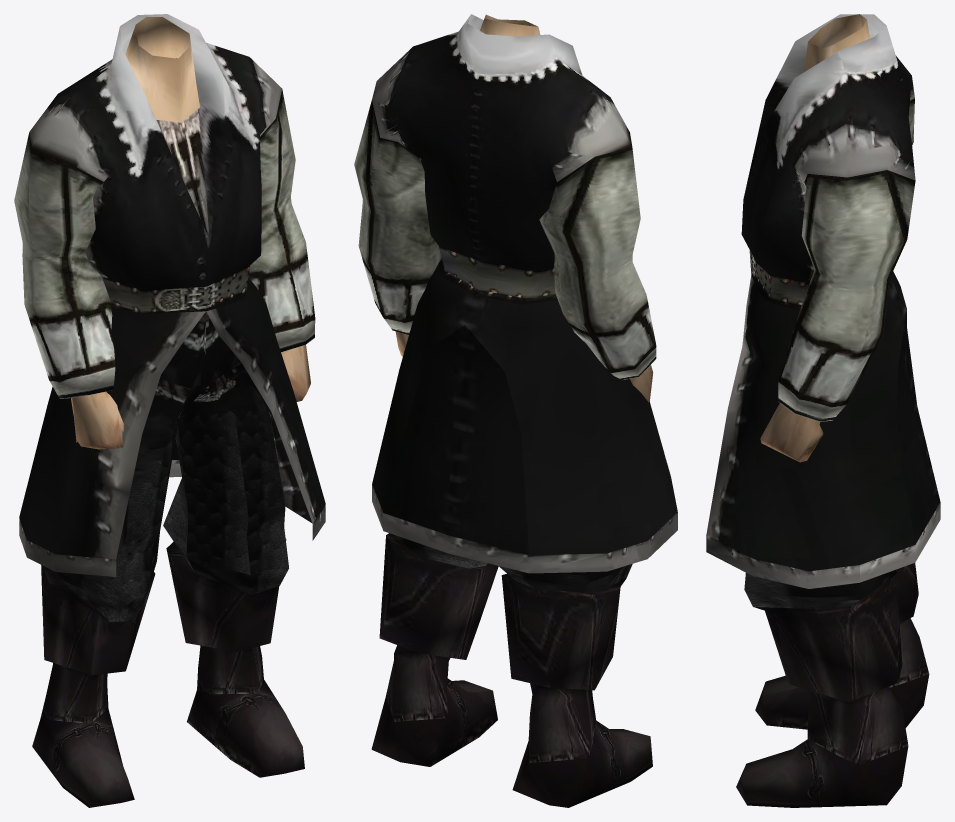
The model's file is OBYW_CZARNBIAL_DLUGAA1.glb.
3 renders of one model, left to right at view 1: azimuth 30°, elevation 25°; view 2: azimuth 150°, elevation 25°; view 3: azimuth 270°, elevation 25°, orthographic. The views are drawn at different scales.
Visible parts, largest first — view 1: OBYW_CZARNBIAL_DLUGAA1; view 2: OBYW_CZARNBIAL_DLUGAA1; view 3: OBYW_CZARNBIAL_DLUGAA1.
Part boxes in pixels (bbox=[...]): OBYW_CZARNBIAL_DLUGAA1: bbox=[14, 14, 325, 807]; OBYW_CZARNBIAL_DLUGAA1: bbox=[354, 14, 677, 807]; OBYW_CZARNBIAL_DLUGAA1: bbox=[706, 14, 940, 807].
Size of the model in its own units: 0.651 by 1.69 by 0.4847.
3 materials, 3 textured.
